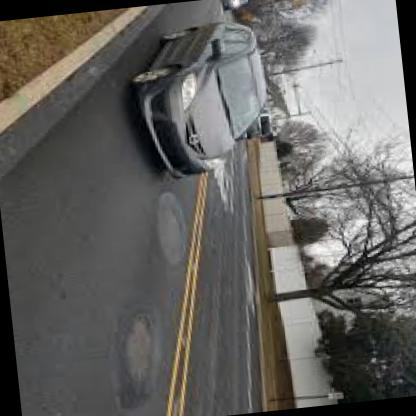manholes: (96, 306, 172, 408), (134, 188, 206, 271)
